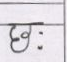anusvara: (39, 32, 43, 35)
